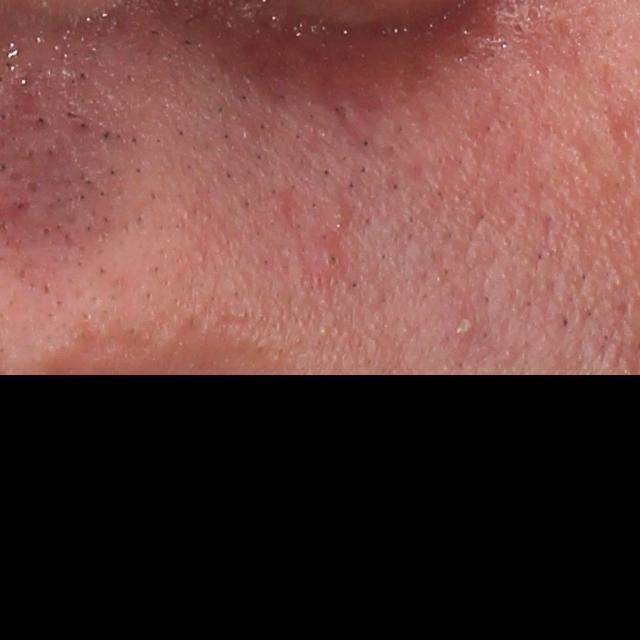pustule: (446, 305, 481, 341)
